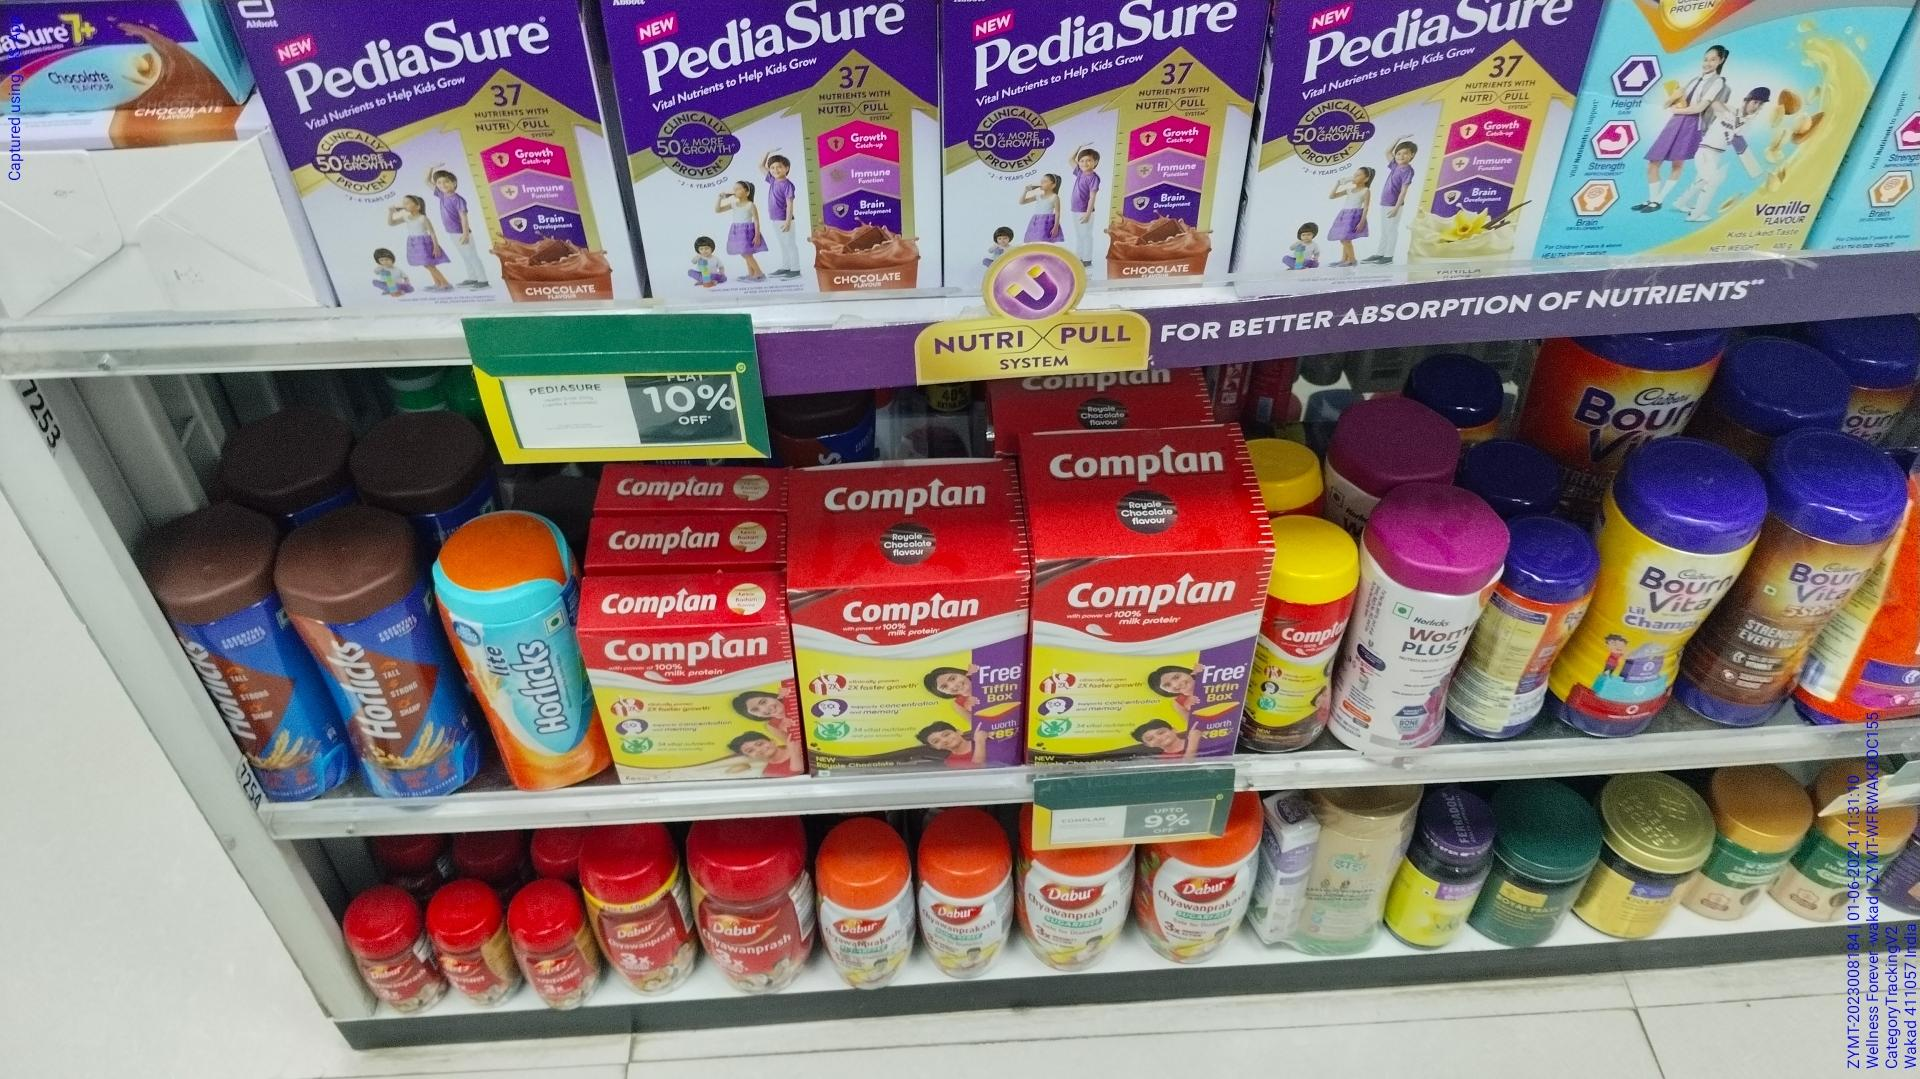BOURN_VITA_CHAMPS_500_G_JAR: (1575, 438, 1735, 725)
BOURN_VITA_FIVE_STAR_MAGIC_500_G_JAR: (1750, 430, 1886, 743)
COMPLAN_CHOCOLATE_200_GMS_JAR: (1258, 532, 1354, 755)
HORLICKS_LITE_REGULAR_MALT_500_GM_JAR: (446, 520, 593, 786)
PEDIASURE_CHOCOLATE_500_G_PACK: (233, 3, 595, 330), (605, 0, 936, 295), (945, 0, 1257, 289), (1276, 0, 1593, 269)
